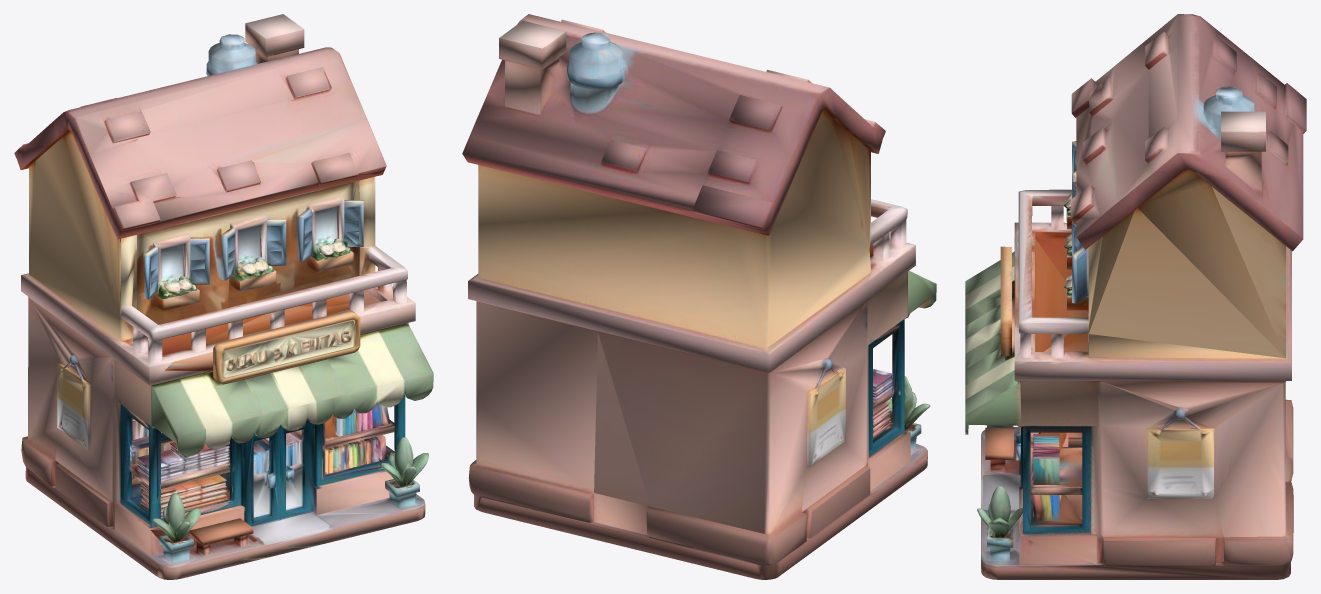
Rendered from buku-kertas.glb.
The picture shows the model from 3 angles, left to right: view 1: azimuth 30°, elevation 25°; view 2: azimuth 150°, elevation 25°; view 3: azimuth 270°, elevation 25°; orthographic projection. The views are drawn at different scales.
Visible parts, largest first — view 1: node_0; view 2: node_0; view 3: node_0.
Boxes of the visible parts, x1,y1,x2,y2 form: node_0: (14, 14, 433, 579); node_0: (462, 14, 936, 579); node_0: (965, 14, 1306, 579).
Bounding box in the file's own units: 0.6199 × 0.8908 × 0.6206.
1 material, 1 textured.
